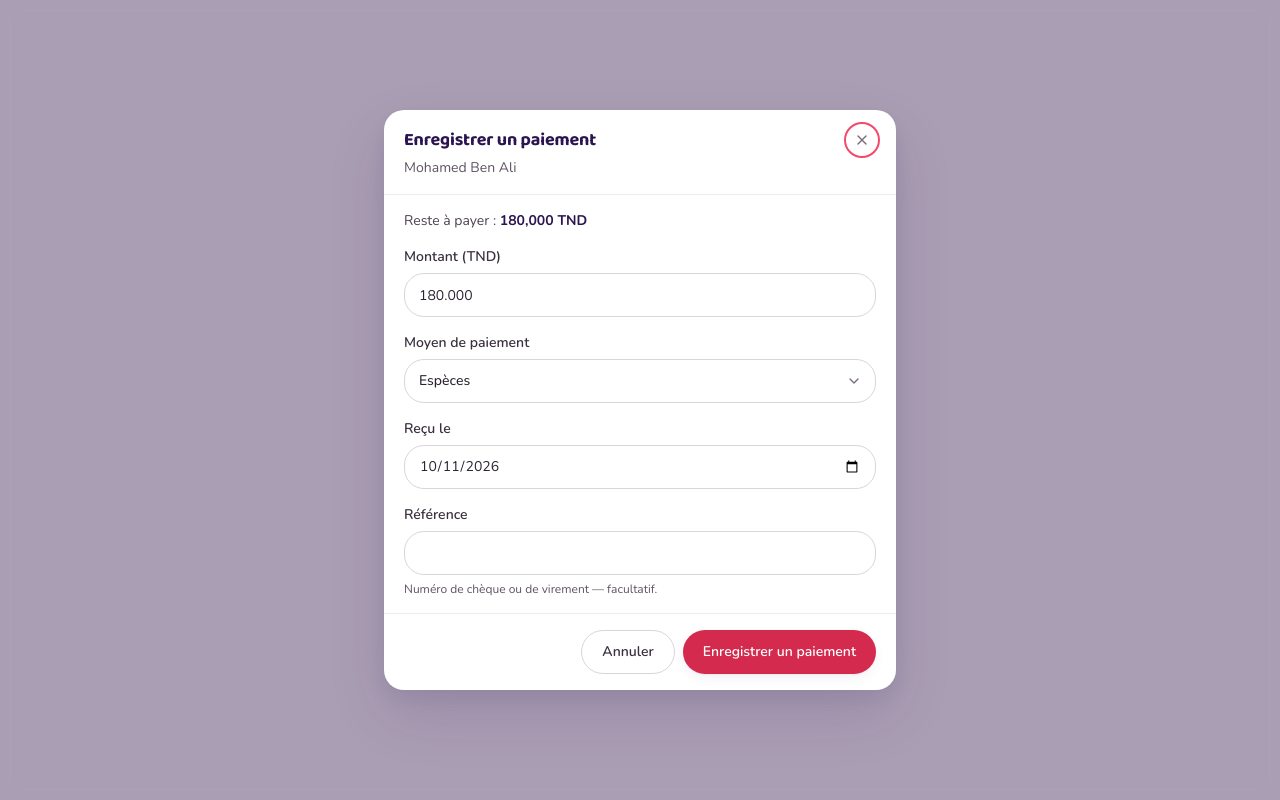
recording a payment › refuses a date in the future before making the request
The width and height of the screenshot is (1280, 800).
Type "2099-01-01" into the date field labelled "Reçu le" at [640, 467], box [404,445,876,489]
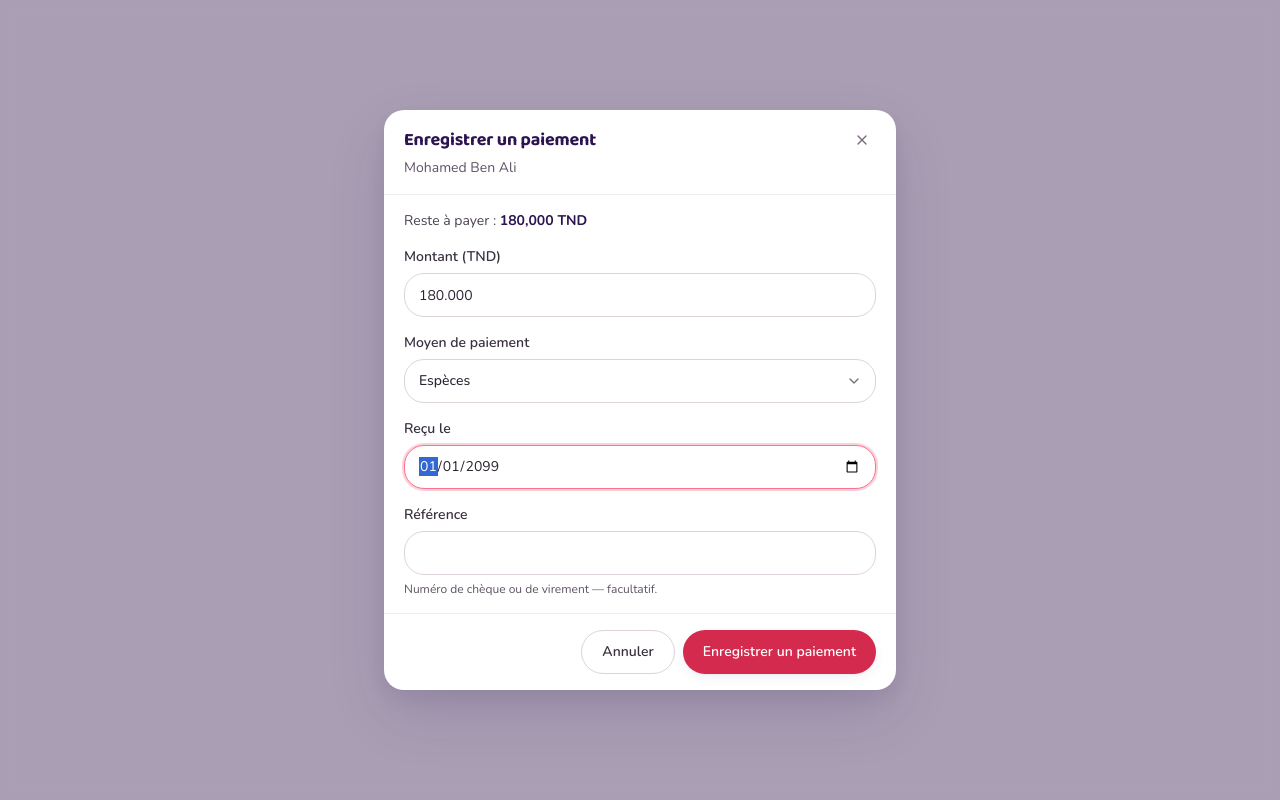
Click the button "Enregistrer un paiement" at [779, 652], box [683,630,876,674]
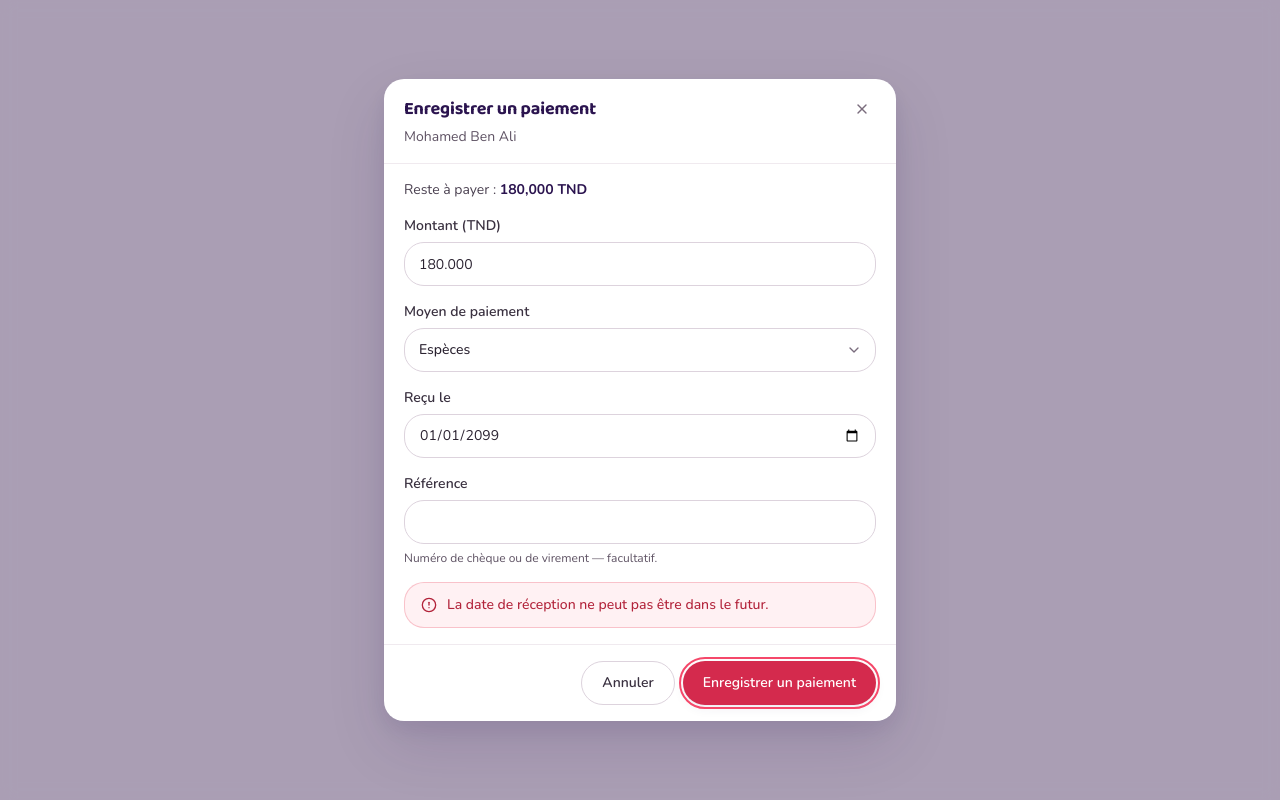
expect the message "La date de réception ne peut pas être dans le futur." is shown: met, box [404,582,876,628]
